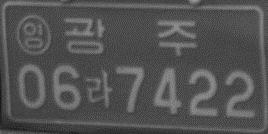0: (17, 63, 47, 110)
2: (224, 68, 256, 119), (188, 69, 220, 118)
4: (151, 66, 182, 115)
6: (52, 63, 81, 112)
7: (115, 66, 145, 114)
광주_D: (63, 16, 198, 58)
라: (85, 69, 113, 108)
영: (15, 14, 51, 56)
